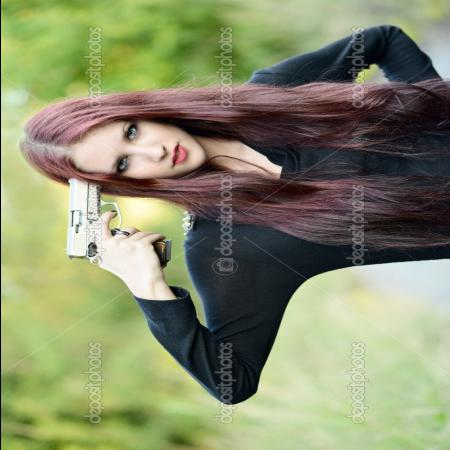Pistol: (56, 176, 202, 266)
